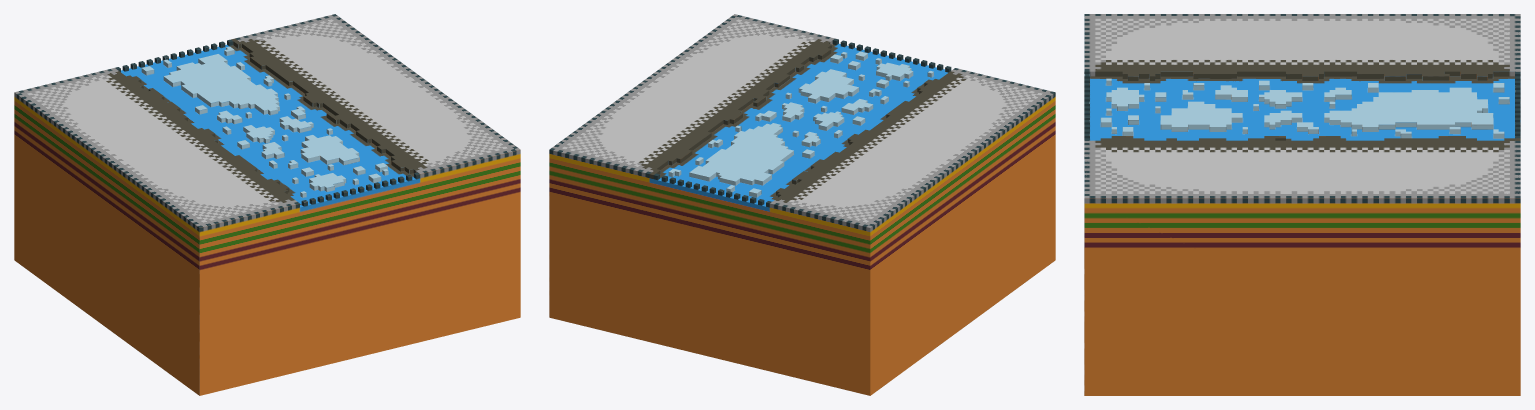
File: ice_river_1_tile.glb
3 renders of one model, left to right at view 1: azimuth 30°, elevation 25°; view 2: azimuth 150°, elevation 25°; view 3: azimuth 270°, elevation 25°, orthographic. The views are drawn at different scales.
Visible parts, largest first — view 1: ice_river_1_tile; view 2: ice_river_1_tile; view 3: ice_river_1_tile.
Boxes of the visible parts, bbox=[...] form: ice_river_1_tile: bbox=[14, 14, 520, 395]; ice_river_1_tile: bbox=[549, 14, 1055, 395]; ice_river_1_tile: bbox=[1084, 14, 1520, 395].
Size of the model in its own units: 8 by 4 by 8.
1 material, 1 textured.
